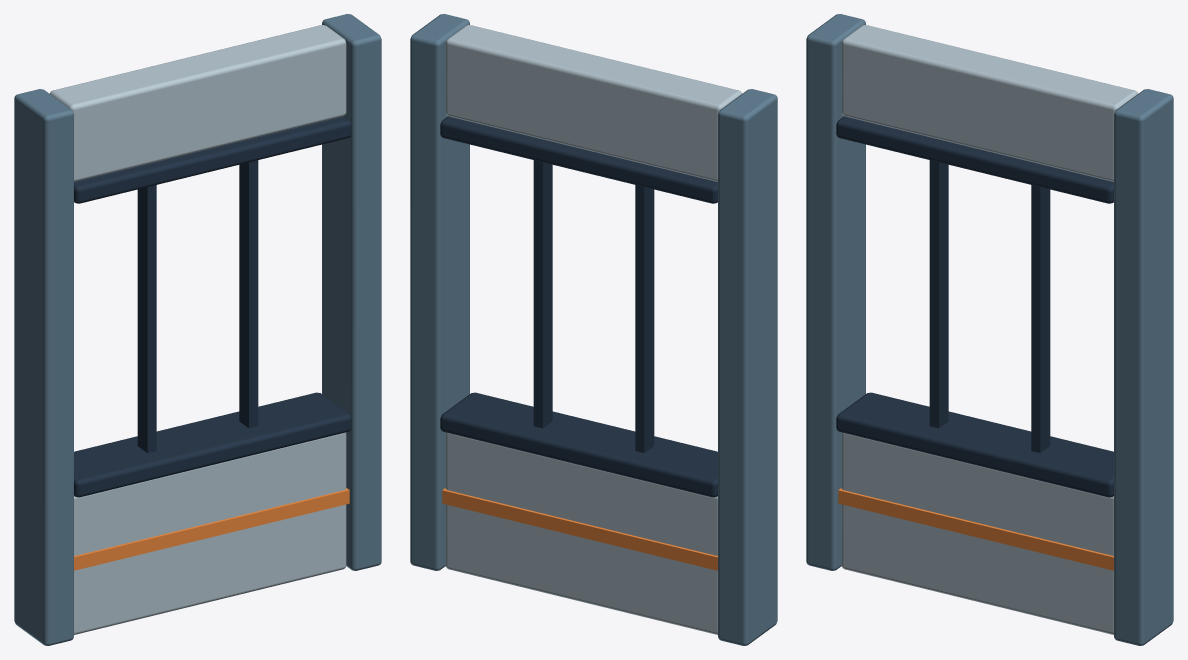
Rendered from window-wall.glb.
3 renders of one model, left to right at view 1: azimuth 30°, elevation 25°; view 2: azimuth 150°, elevation 25°; view 3: azimuth 330°, elevation 25°, orthographic.
Parts seen in each view (by area): view 1: sill, jamb--0.91, header, jamb-0.91, lower-frame, upper-frame, mullion-0.3, mullion--0.3, stripe; view 2: sill, jamb--0.91, header, jamb-0.91, lower-frame, upper-frame, mullion-0.3, mullion--0.3, stripe; view 3: sill, jamb-0.91, header, jamb--0.91, lower-frame, upper-frame, mullion--0.3, mullion-0.3, stripe.
Boxes of the visible parts, x1,y1,x2,y2 form: sill: [74, 432, 346, 634]; jamb--0.91: [14, 89, 73, 645]; header: [50, 25, 346, 181]; jamb-0.91: [322, 14, 381, 570]; lower-frame: [74, 392, 351, 497]; upper-frame: [74, 116, 351, 203]; mullion-0.3: [239, 160, 258, 428]; mullion--0.3: [137, 185, 156, 453]; stripe: [74, 488, 349, 570]; sill: [445, 432, 717, 634]; jamb--0.91: [718, 89, 777, 645]; header: [445, 25, 741, 181]; jamb-0.91: [410, 14, 469, 570]; lower-frame: [440, 392, 717, 497]; upper-frame: [440, 116, 717, 203]; mullion-0.3: [533, 160, 552, 428]; mullion--0.3: [635, 185, 654, 453]; stripe: [442, 488, 717, 570]; sill: [841, 432, 1113, 634]; jamb-0.91: [1114, 89, 1173, 645]; header: [841, 25, 1137, 181]; jamb--0.91: [806, 14, 865, 570]; lower-frame: [836, 392, 1113, 497]; upper-frame: [836, 116, 1113, 203]; mullion--0.3: [929, 160, 948, 428]; mullion-0.3: [1031, 185, 1050, 453]; stripe: [838, 488, 1113, 570].
Size of the model in its own units: 2 by 3 by 0.35.
